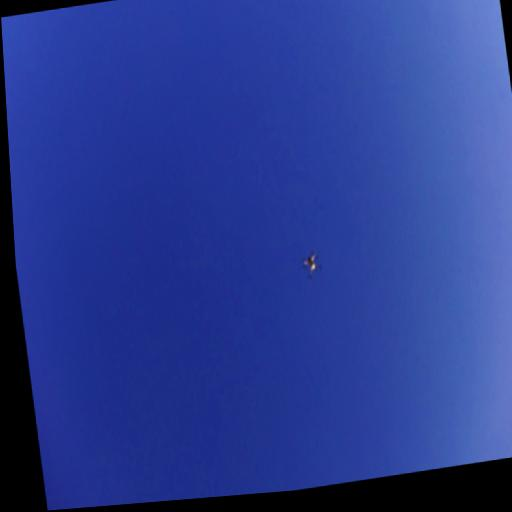drones: (295, 240, 327, 285)
